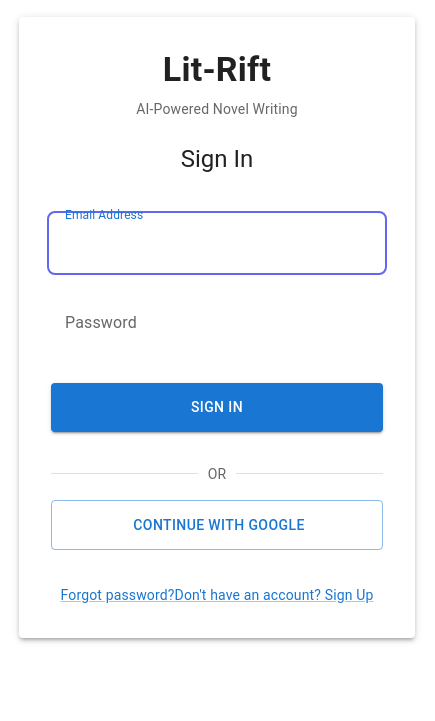
Scenario: LoginPage › Form Validation › shows error for invalid email format
In the field labelled "Email Address": (217, 243) [51,215,383,271], type "invalid-email"
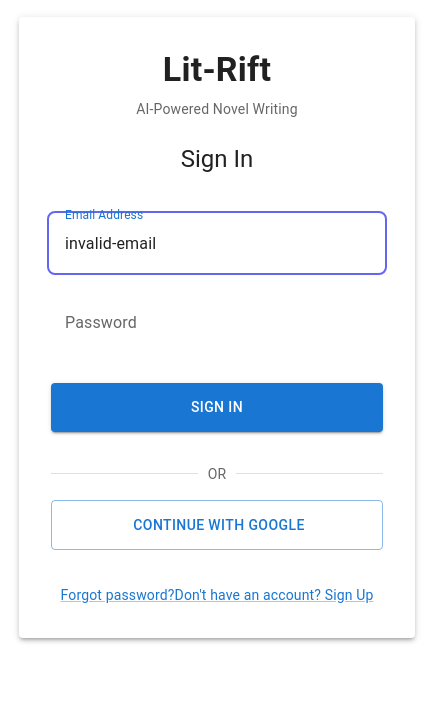
In the password field labelled "Password": (217, 323) [51,295,383,351], type "password123"
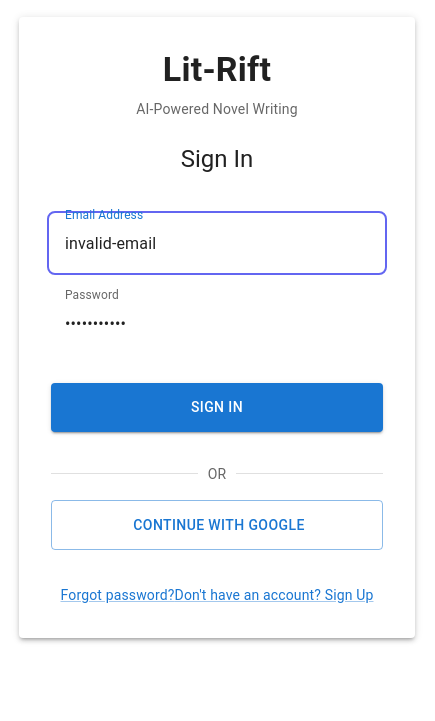
Click the button "Sign In": (217, 407) [51,383,383,432]
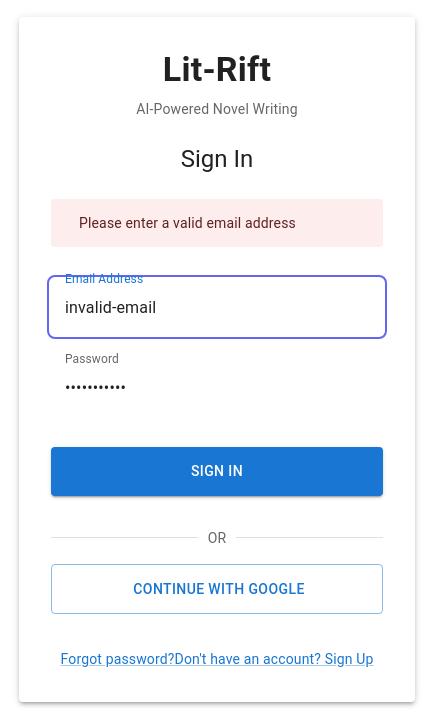
Expected: the text "Please enter a valid email address" is shown, [79,215,296,231]
